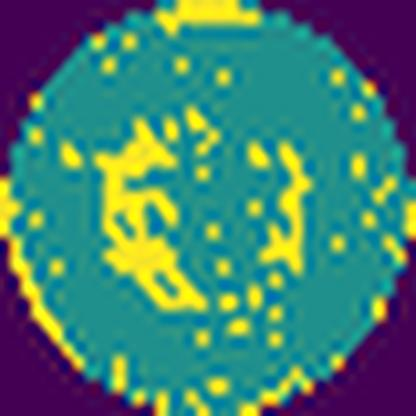Donut: (85, 101, 318, 339)
